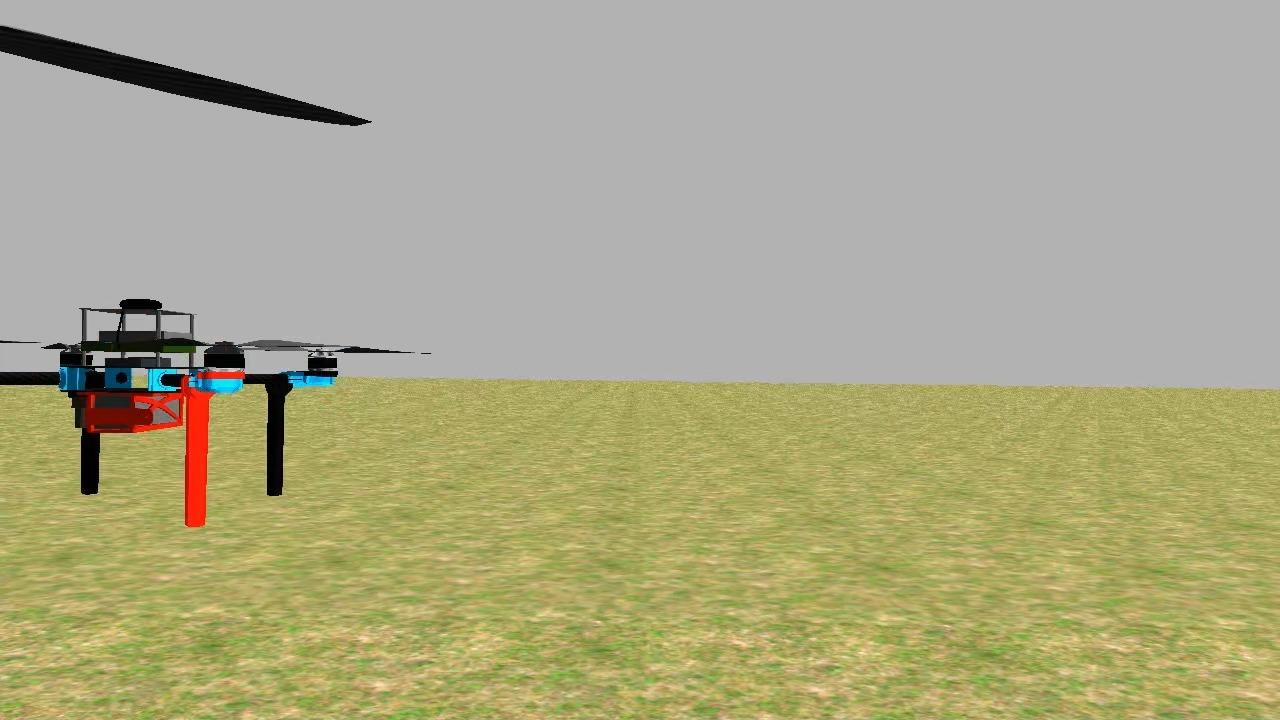UAV: (0, 264, 407, 519)
